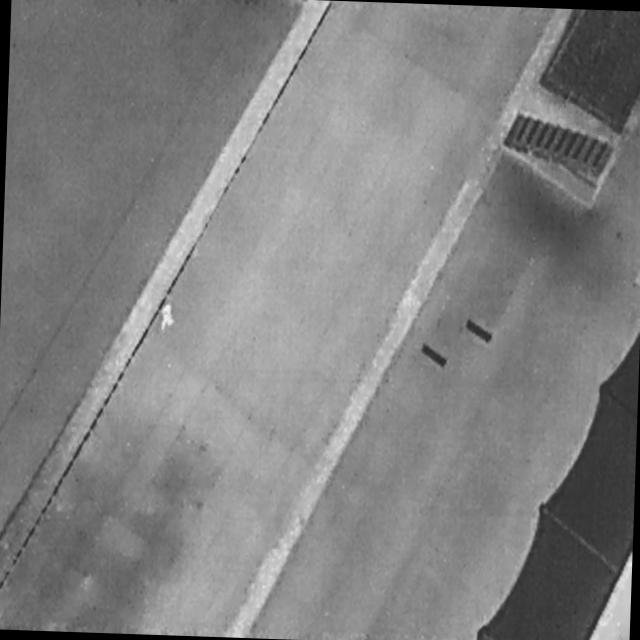person: (158, 301, 177, 332)
